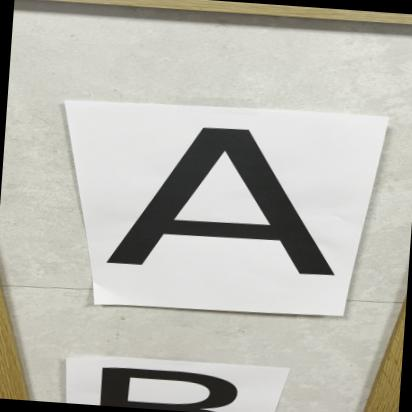seat: (93, 113, 364, 308)
